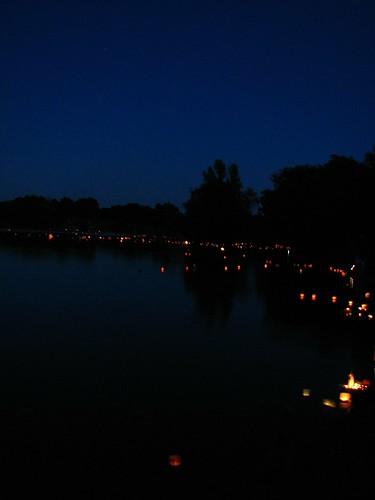sea: (1, 248, 332, 500)
sky: (18, 1, 375, 177)
